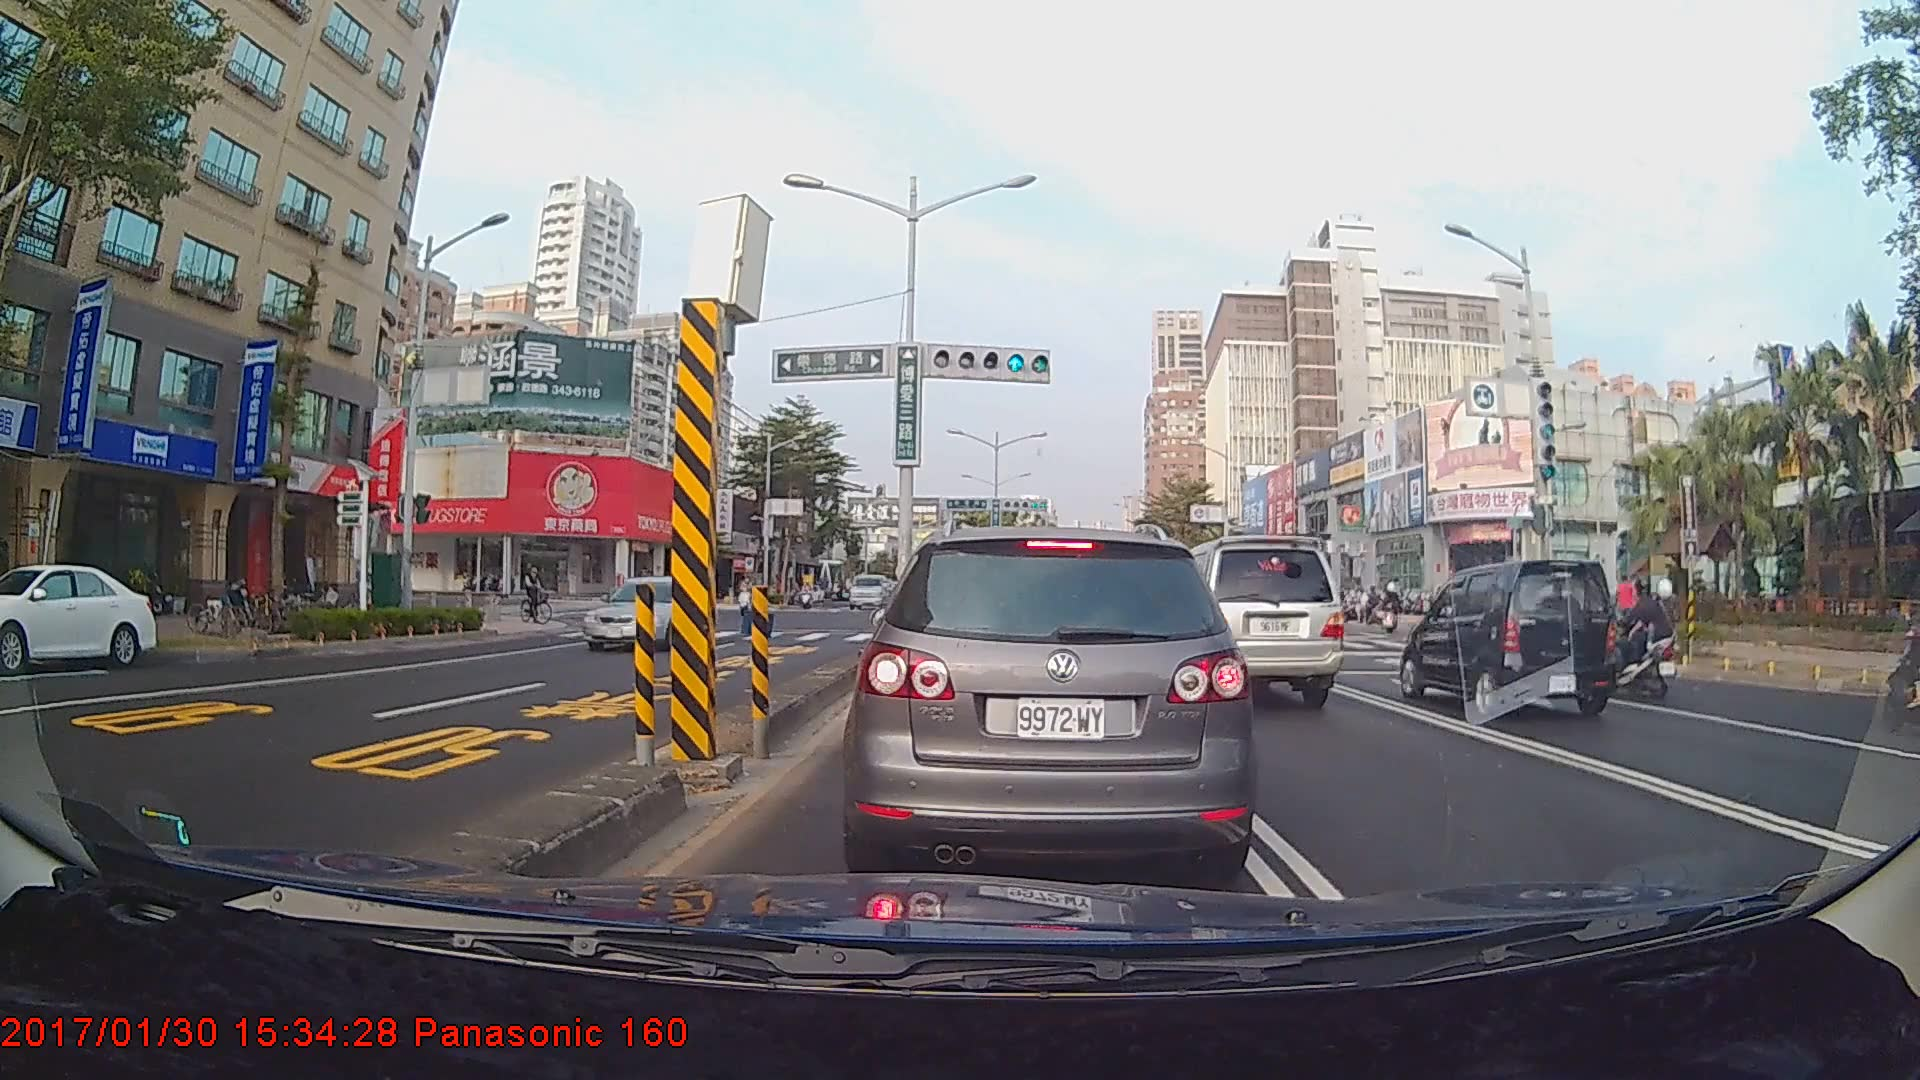rider: (1571, 568, 1687, 703), (518, 559, 561, 629)
vehicle: (855, 522, 1244, 886), (1389, 557, 1614, 720), (1147, 534, 1345, 710), (0, 561, 157, 671), (578, 575, 715, 651), (845, 571, 891, 611)
